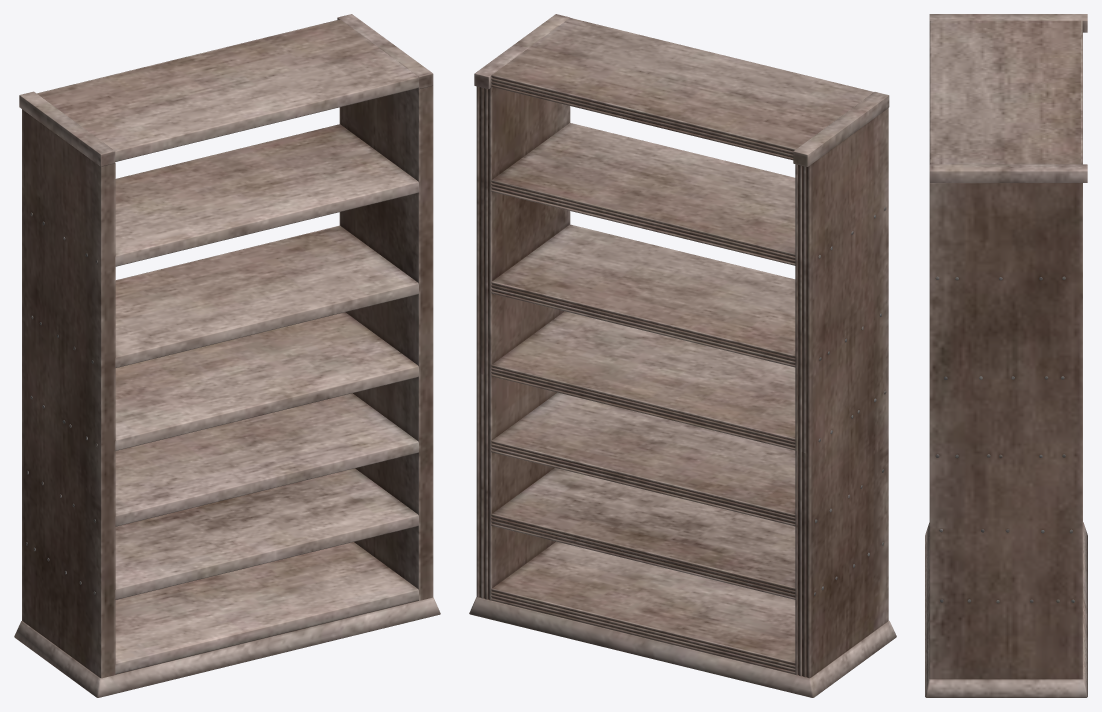
Rendered from ph-wooden_bookshelf_worn.glb.
3 renders of one model, left to right at view 1: azimuth 30°, elevation 25°; view 2: azimuth 150°, elevation 25°; view 3: azimuth 270°, elevation 25°, orthographic. The views are drawn at different scales.
Parts seen in each view (by area): view 1: wooden_bookshelf_worn; view 2: wooden_bookshelf_worn; view 3: wooden_bookshelf_worn.
Boxes of the visible parts, x1,y1,x2,y2 form: wooden_bookshelf_worn: (14, 14, 440, 697); wooden_bookshelf_worn: (469, 14, 896, 697); wooden_bookshelf_worn: (925, 14, 1087, 697).
Size of the model in its own units: 0.6659 by 1 by 0.2818.
Materials: 1 (1 with a texture image).
